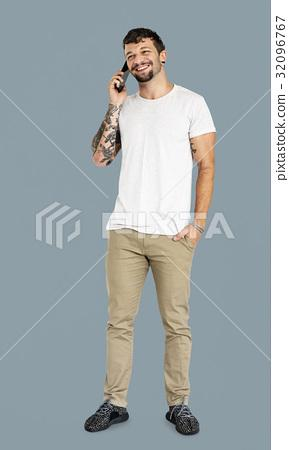talk: (108, 44, 156, 104)
